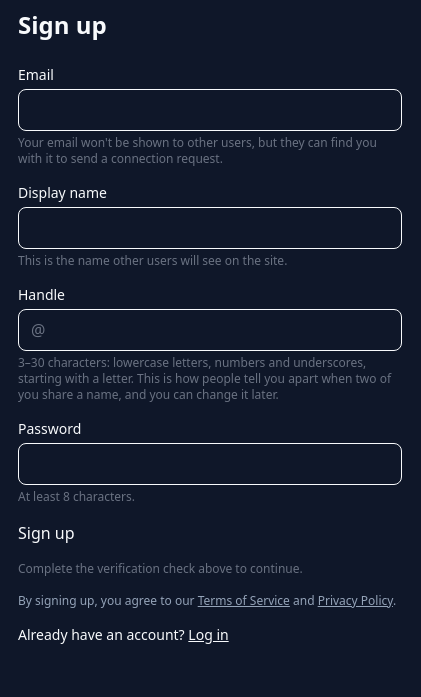
Test: SignupPage with Turnstile enabled › says why rather than doing nothing when the gated button is pressed
In the field labelled "Email": (210, 110) [18,89,402,131], type "x@y.com"
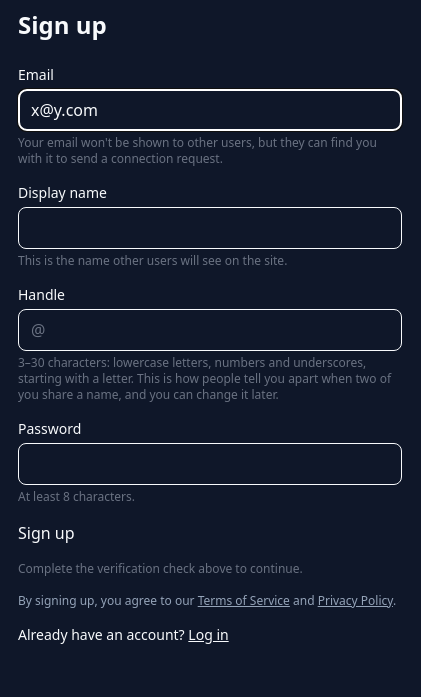
In the field labelled "Display name": (210, 228) [18,207,402,249], type "X"
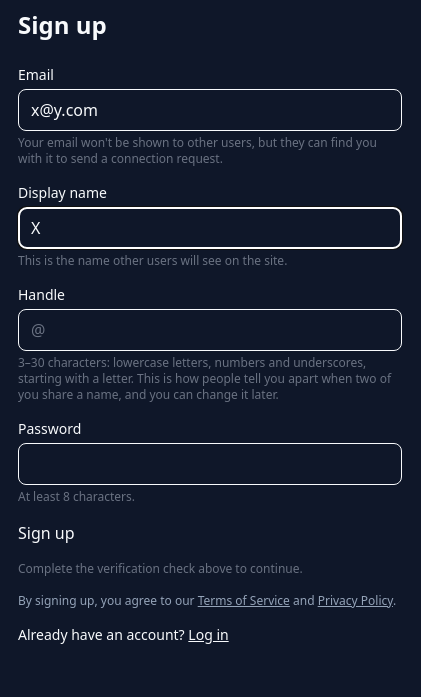
In the field labelled "Handle": (223, 330) [45,310,401,350], type "x_user"
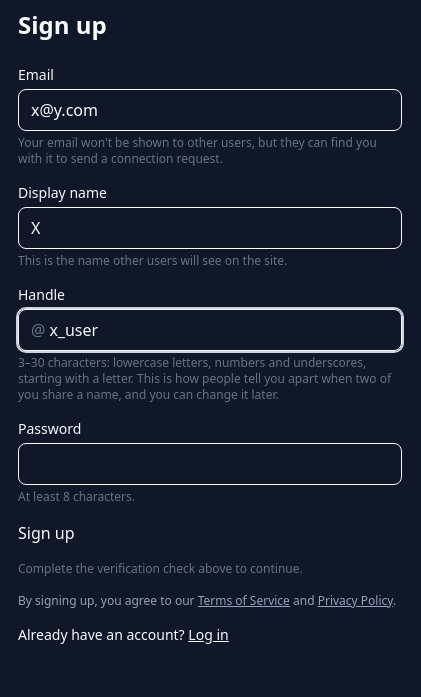
In the password field labelled "Password": (210, 464) [18,443,402,485], type "hunter2hunter2"
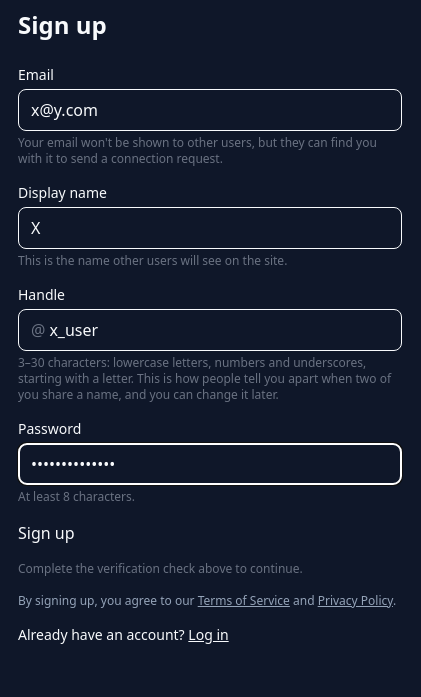
Click the button "Sign up": (46, 533) [18,521,74,545]
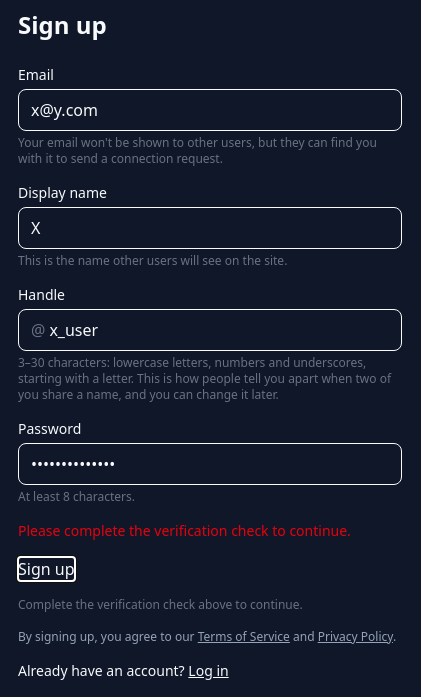
Expected: the text "Please complete the verification check to continue." is shown, [18,521,402,541]
